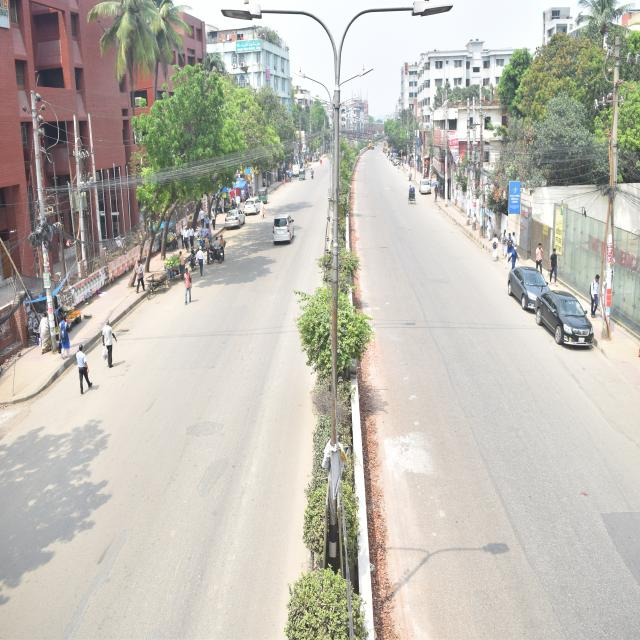car: (534, 276, 605, 366), (504, 244, 556, 315), (208, 199, 248, 236), (243, 188, 270, 231), (414, 177, 438, 200)
microbus: (263, 207, 307, 255)
motorbike: (200, 240, 228, 267), (182, 249, 204, 276), (308, 168, 323, 196)
pickup-van: (288, 160, 306, 179)
